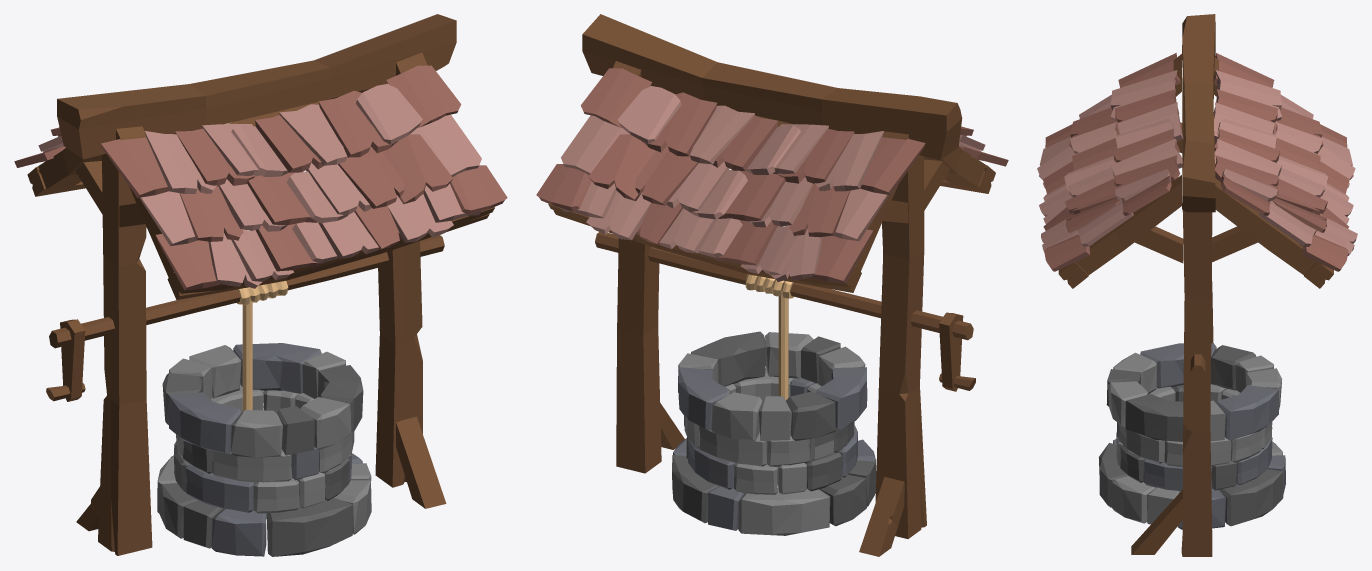
Rendered from Well.fbx.
3 views of the same model, side by side, from view 1: azimuth 30°, elevation 25°; view 2: azimuth 150°, elevation 25°; view 3: azimuth 270°, elevation 25° (orthographic). The views are drawn at different scales.
Visible parts, largest first — view 1: Cube; view 2: Cube; view 3: Cube.
Boxes of the visible parts, bbox=[...] form: Cube: bbox=[14, 14, 507, 556]; Cube: bbox=[536, 14, 1008, 556]; Cube: bbox=[1037, 14, 1357, 556].
Bounding box in the file's own units: 412 × 446 × 328.
